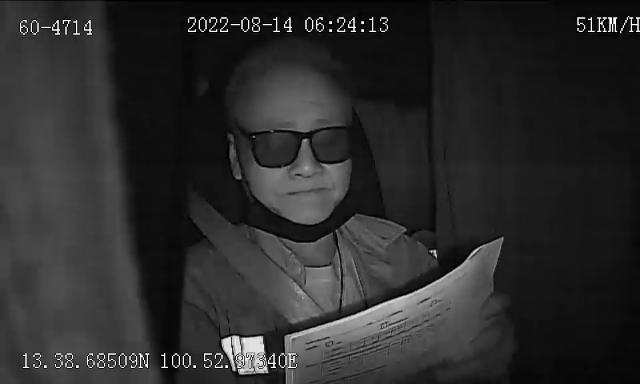Seatbelt: (179, 189, 325, 323)
